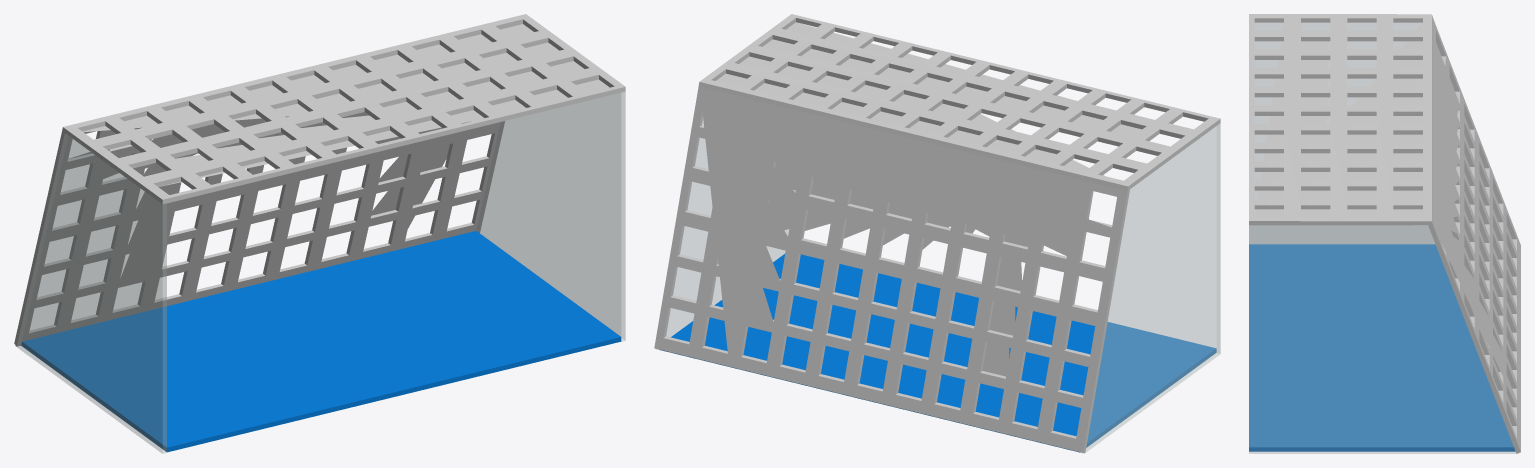
The model's file is ShootyGoalBlue.fbx.
3 renders of one model, left to right at view 1: azimuth 30°, elevation 25°; view 2: azimuth 150°, elevation 25°; view 3: azimuth 270°, elevation 25°, orthographic. The views are drawn at different scales.
Visible parts, largest first — view 1: Goal; view 2: Goal; view 3: Goal.
Boxes of the visible parts, x1,y1,x2,y2 form: Goal: [14, 14, 625, 453]; Goal: [654, 14, 1220, 453]; Goal: [1249, 14, 1520, 453].
Bounding box in the file's own units: 6.22e-05 × 3.26e-05 × 3.45e-05.
